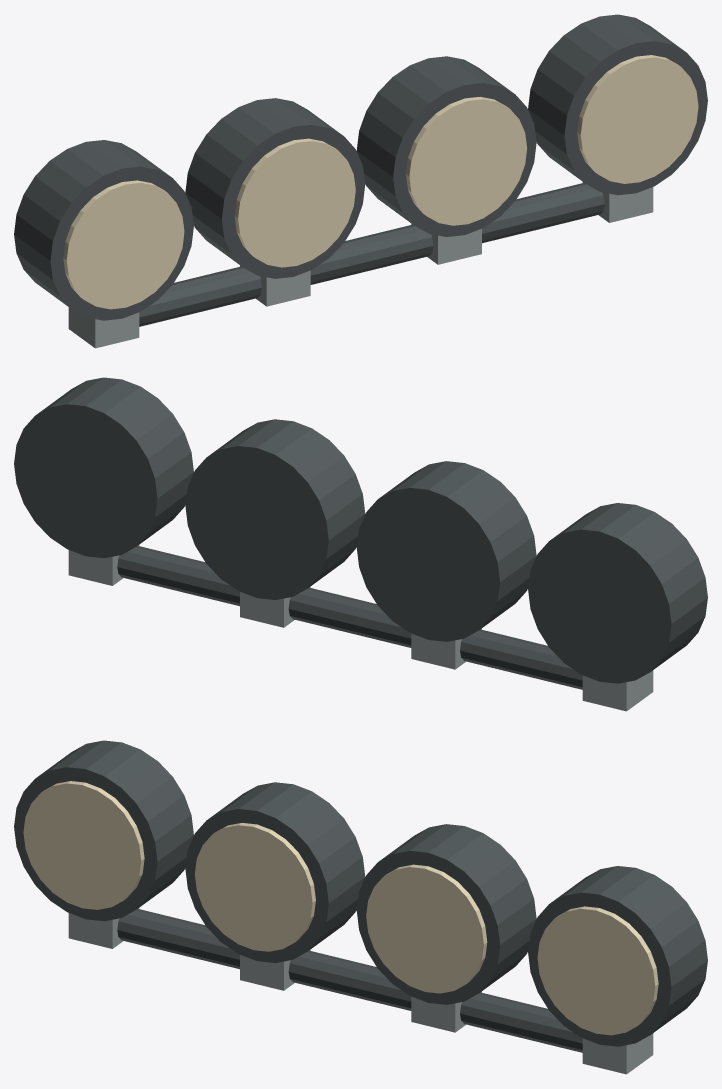
The model's file is KIT_ROOF_RoundLights.glb.
3 renders of one model, top to bottom at view 1: azimuth 30°, elevation 25°; view 2: azimuth 150°, elevation 25°; view 3: azimuth 330°, elevation 25°, orthographic.
Parts seen in each view (by area): view 1: Housings, Lenses, Crossbar, Mounts; view 2: Housings, Crossbar, Mounts; view 3: Housings, Lenses, Crossbar, Mounts.
Boxes of the visible parts, left/top/right/bottom form: Housings: left=14, top=14, right=707, bottom=320; Lenses: left=63, top=55, right=698, bottom=309; Crossbar: left=139, top=183, right=604, bottom=326; Mounts: left=68, top=182, right=653, bottom=348; Housings: left=14, top=377, right=707, bottom=683; Crossbar: left=117, top=546, right=582, bottom=689; Mounts: left=68, top=545, right=653, bottom=711; Housings: left=14, top=740, right=707, bottom=1046; Lenses: left=23, top=781, right=658, bottom=1035; Crossbar: left=117, top=909, right=582, bottom=1052; Mounts: left=68, top=908, right=653, bottom=1074.
Bounding box in the file's own units: 0.614 × 0.159 × 0.0645.
